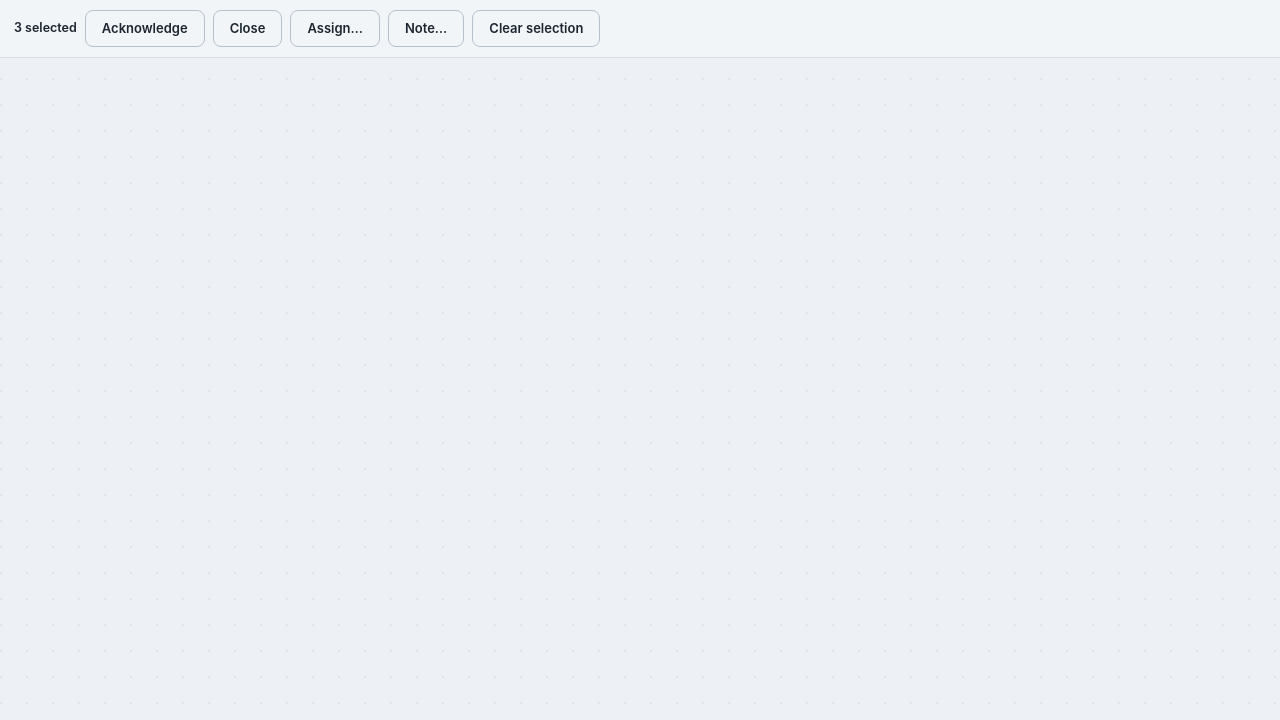
Test case: BulkActionBar › will not send an empty note, which the server would refuse anyway
Click the button "Note…": (426, 28) [388, 10, 464, 47]
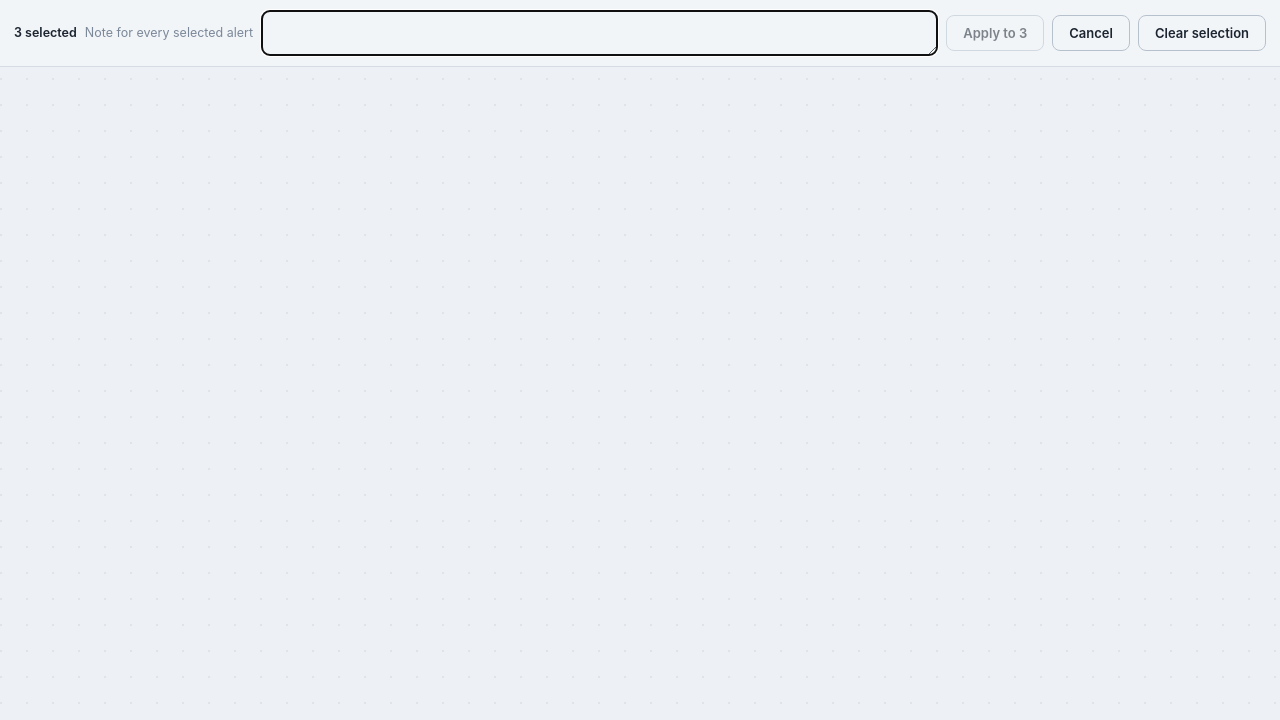
expect the button "Apply to 3" is disabled: met, box [946, 15, 1044, 51]
